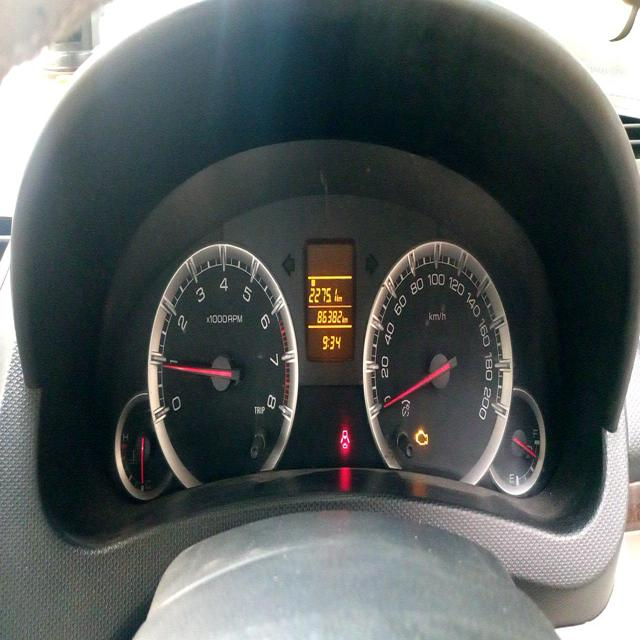odometer: (316, 308, 342, 325)
